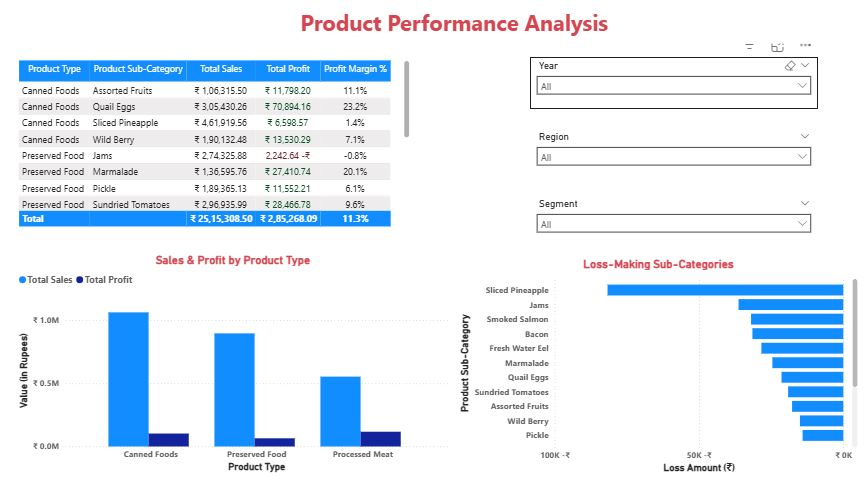

This screenshot's page, from the dashboard's own definition file:
{"tool":"powerbi","page":{"name":"Products","canvas":[1280,720],"ordinal":1},"visuals":[{"type":"clusteredColumnChart","title":"Sales & Profit by Product Type","fields":{"Category":["Dim_Product.Product Type"],"Y":["Measure.Total Sales","Measure.Total Profit"]},"box":[25,380.6,640.7,327.7],"z":0},{"type":"clusteredBarChart","title":"Loss-Making Sub-Categories","fields":{"Category":["Dim_Product.Product Sub-Category"],"Y":["Measure.Total Profit"]},"box":[673,386.4,595.1,321.8],"z":1000},{"type":"tableEx","fields":{"Values":["Dim_Product.Product Type","Dim_Product.Product Sub-Category","Measure.Total Sales","Measure.Total Profit","Measure.Profit Margin %"]},"box":[25,92.6,584.8,254.2],"z":2000},{"type":"slicer","fields":{"Values":["Dim_Date.Year"]},"box":[781.7,92.6,423.2,76.4],"z":3000},{"type":"slicer","fields":{"Values":["Dim_Geography.Region"]},"box":[781.7,196.9,423.2,74.9],"z":4000},{"type":"slicer","fields":{"Values":["Dim_Customer.Segment"]},"box":[781.7,295.3,423.2,76.4],"z":5000},{"type":"textbox","box":[42.7,15.4,1189.4,58.1],"z":6000}]}

Visuals, with their boxes in screenshot pixels (x1, y1, x2, y2), scaled from the page's 1280x720 canvas onto the 867x482 screenshot:
"Sales & Profit by Product Type" clusteredColumnChart: BBox(17, 255, 451, 474)
"Loss-Making Sub-Categories" clusteredBarChart: BBox(456, 259, 859, 474)
tableEx - Dim_Product.Product Type x Dim_Product.Product Sub-Category: BBox(17, 62, 413, 232)
slicer - Dim_Date.Year: BBox(529, 62, 816, 113)
slicer - Dim_Geography.Region: BBox(529, 132, 816, 182)
slicer - Dim_Customer.Segment: BBox(529, 198, 816, 249)
textbox: BBox(29, 10, 835, 49)
